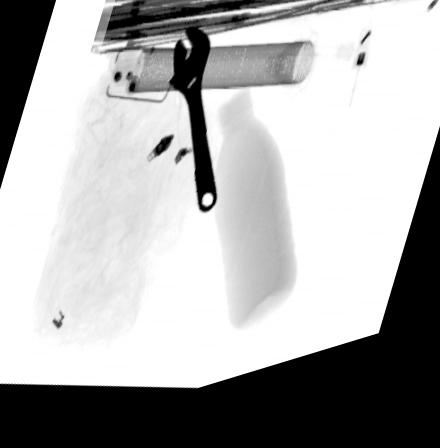Wrench: (164, 37, 217, 228)
